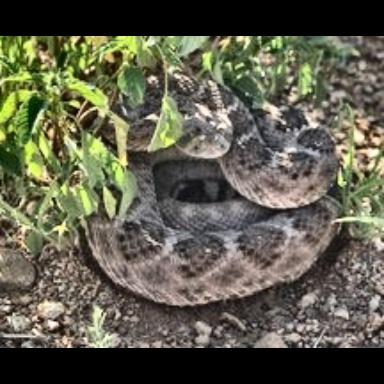snake: (65, 54, 369, 312)
